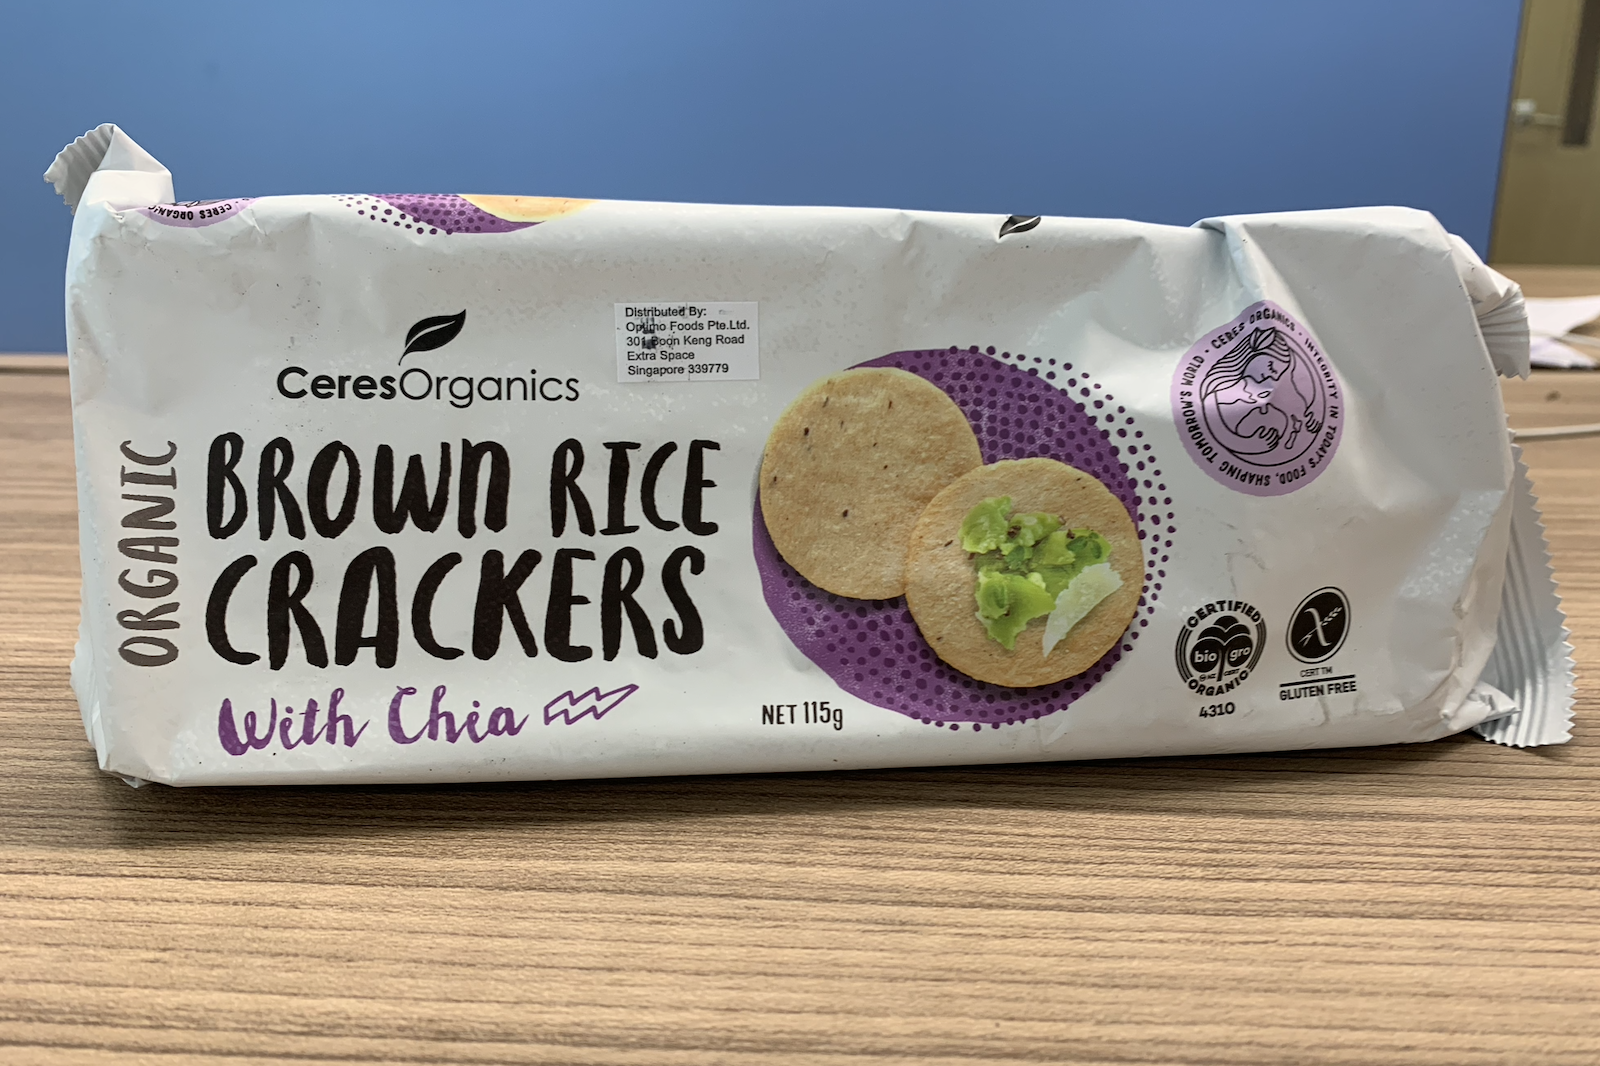crackers_150g: (107, 221, 1444, 738)
